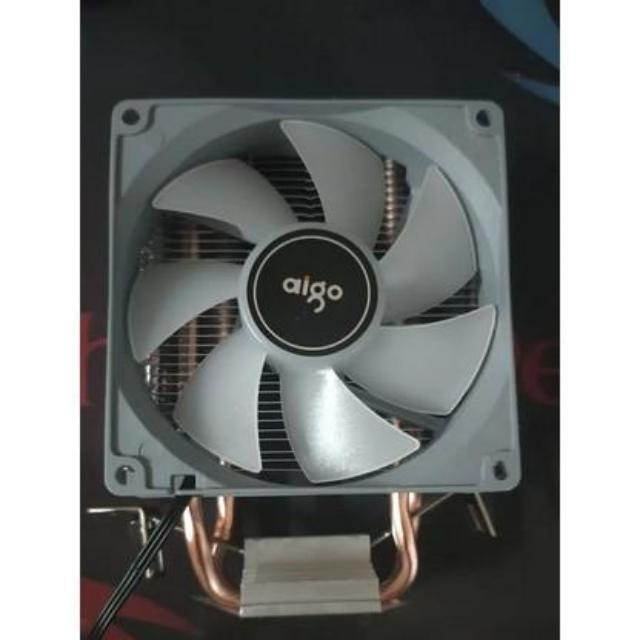CPU_Fan: (109, 96, 524, 618)
